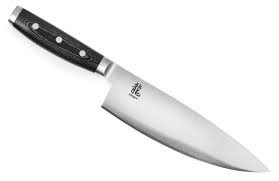knife: (7, 4, 270, 175)
